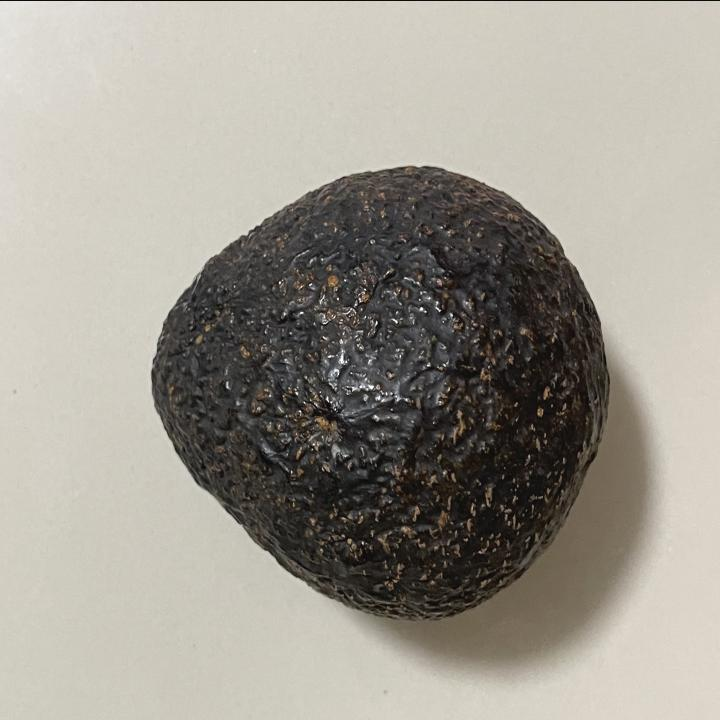Level3: (138, 151, 616, 632)
